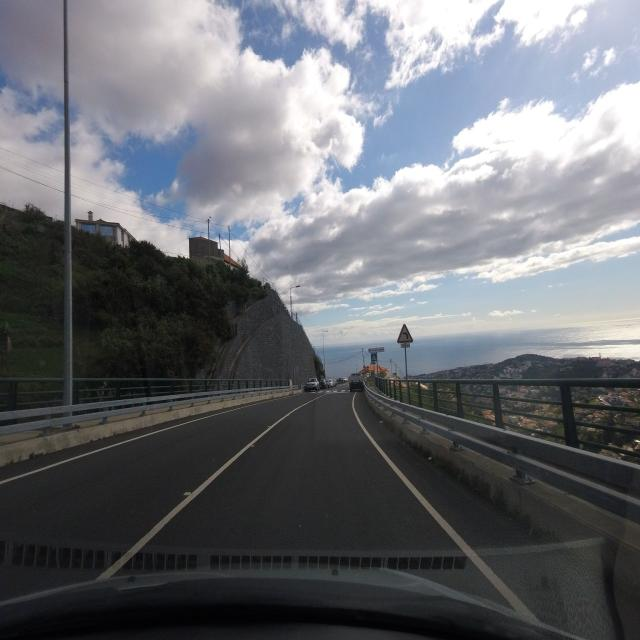car: (303, 377, 319, 393)
